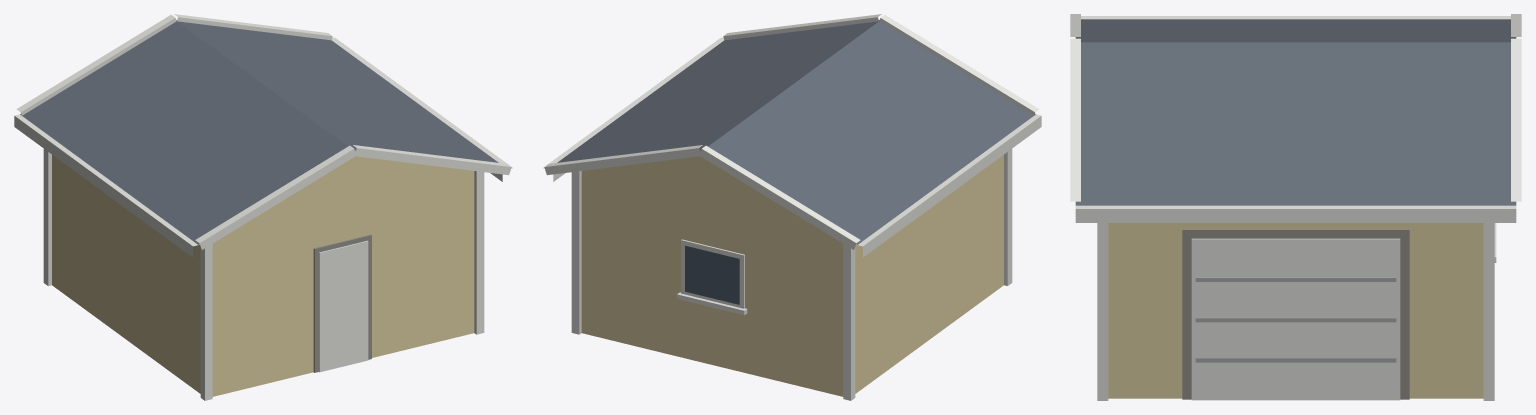
The model's file is h28_port_cbsa_shed4.gltf.
3 views of the same model, side by side, from view 1: azimuth 30°, elevation 25°; view 2: azimuth 150°, elevation 25°; view 3: azimuth 270°, elevation 25° (orthographic). The views are drawn at different scales.
Visible parts, largest first — view 1: h28_port_cbsa_shed4; view 2: h28_port_cbsa_shed4; view 3: h28_port_cbsa_shed4.
Part boxes in pixels (x1,y1,x2,y2): h28_port_cbsa_shed4: [14, 14, 512, 400]; h28_port_cbsa_shed4: [543, 14, 1041, 400]; h28_port_cbsa_shed4: [1070, 14, 1521, 400].
Bounding box in the file's own units: 5.9 × 3.99 × 5.84.
